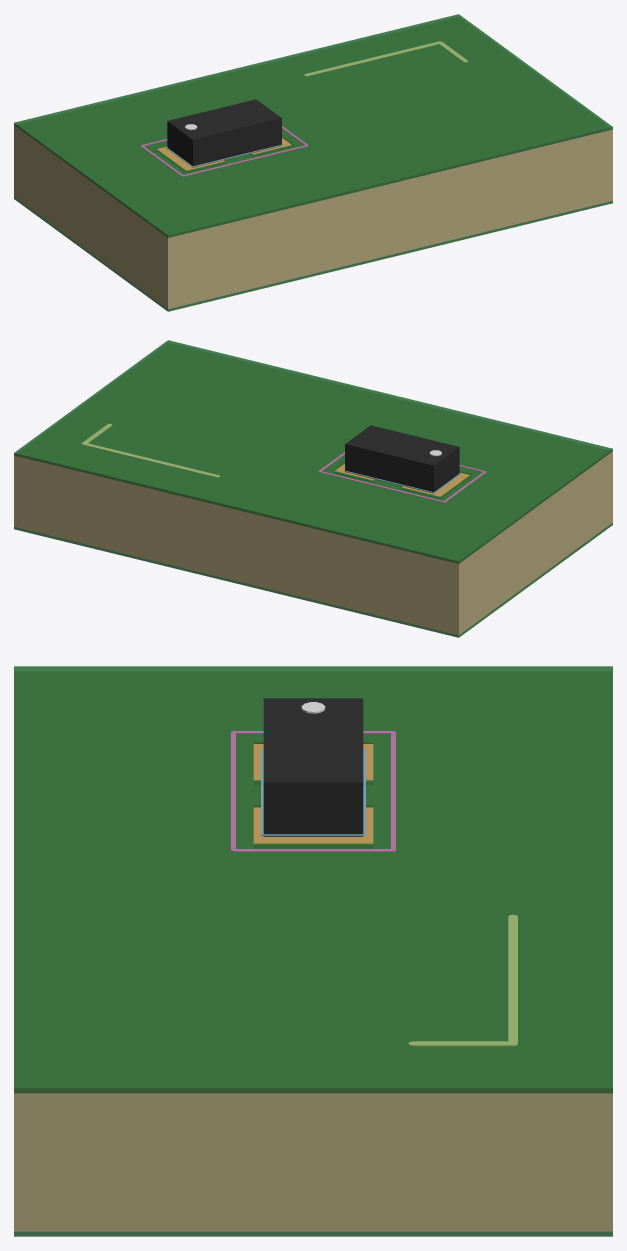
File: drawing-layers.glb
3 renders of one model, top to bottom at view 1: azimuth 30°, elevation 25°; view 2: azimuth 150°, elevation 25°; view 3: azimuth 270°, elevation 25°, orthographic. The views are drawn at different scales.
Visible parts, largest first — view 1: layer/@soldermask-top, layer/@core, R1, layer/@soldermask-bottom, layer/NOTES, layer/CRT_TOP, layer/TOP; view 2: layer/@soldermask-top, layer/@core, R1, layer/@soldermask-bottom, layer/NOTES, layer/CRT_TOP, layer/TOP; view 3: layer/@soldermask-top, layer/@core, R1, layer/@soldermask-bottom, layer/TOP, layer/NOTES, layer/CRT_TOP, layer/FAB_TOP.
Part boxes in pixels (x1,y1,x2,y2): layer/@soldermask-top: [14, 14, 612, 237]; layer/@core: [14, 17, 612, 309]; R1: [167, 99, 281, 167]; layer/@soldermask-bottom: [14, 197, 612, 311]; layer/NOTES: [304, 41, 468, 76]; layer/CRT_TOP: [140, 126, 308, 176]; layer/TOP: [156, 137, 292, 172]; layer/@soldermask-top: [14, 340, 612, 563]; layer/@core: [14, 345, 612, 635]; R1: [345, 425, 459, 493]; layer/@soldermask-bottom: [14, 523, 612, 637]; layer/NOTES: [81, 423, 219, 477]; layer/CRT_TOP: [318, 452, 486, 502]; layer/TOP: [335, 463, 469, 496]; layer/@soldermask-top: [14, 666, 612, 1093]; layer/@core: [14, 672, 612, 1231]; R1: [263, 698, 363, 836]; layer/@soldermask-bottom: [14, 1231, 612, 1236]; layer/TOP: [253, 744, 373, 847]; layer/NOTES: [408, 914, 517, 1046]; layer/CRT_TOP: [231, 731, 395, 851]; layer/FAB_TOP: [261, 749, 365, 836].
Size of the model in its own units: 0.01 by 0.00225 by 0.006.
